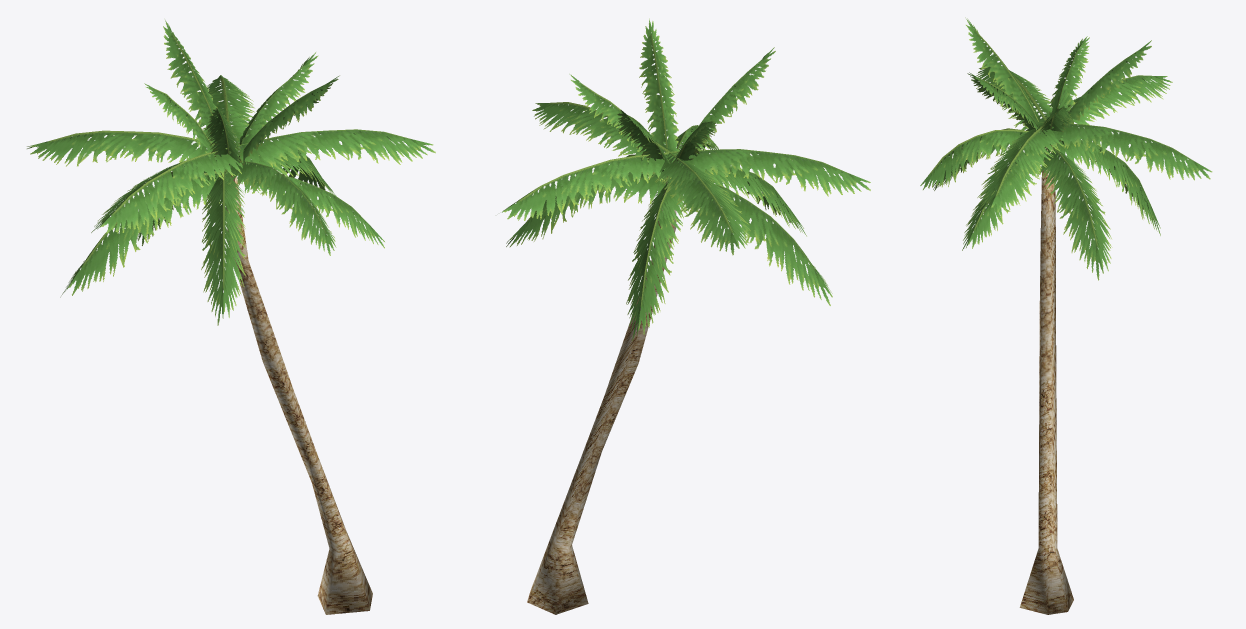
Rendered from Palm2.glb.
3 views of the same model, side by side, from view 1: azimuth 30°, elevation 25°; view 2: azimuth 150°, elevation 25°; view 3: azimuth 270°, elevation 25° (orthographic). The views are drawn at different scales.
Parts seen in each view (by area): view 1: Palm2; view 2: Palm2; view 3: Palm2.
Boxes of the visible parts, x1,y1,x2,y2 form: Palm2: (27,20,435,614); Palm2: (502,18,870,614); Palm2: (920,17,1212,614).
Size of the model in its own units: 8.89 by 13.27 by 7.48.
1 material, 1 textured.
